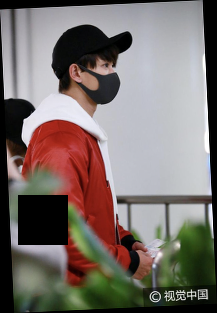with_mask: (85, 60, 122, 107)
